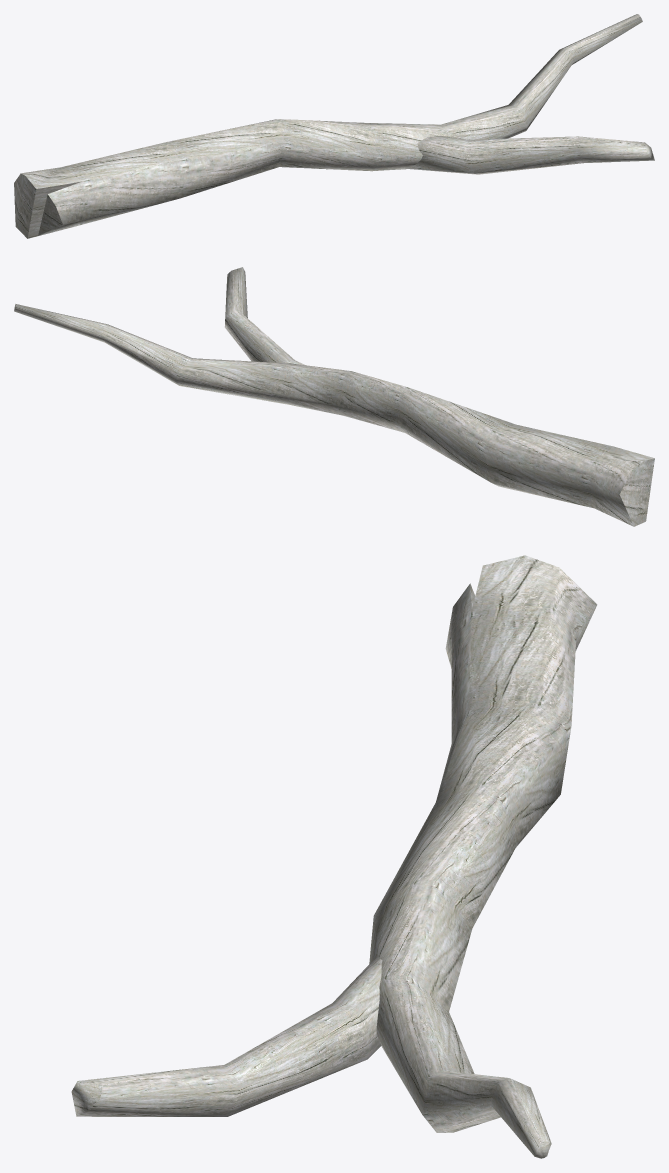
The model's file is shor_driftwood_a1_l0.fbx.
The picture shows the model from 3 angles, top to bottom: view 1: azimuth 30°, elevation 25°; view 2: azimuth 150°, elevation 25°; view 3: azimuth 270°, elevation 25°; orthographic projection. The views are drawn at different scales.
Visible parts, largest first — view 1: mesh_node; view 2: mesh_node; view 3: mesh_node.
Boxes of the visible parts, x1,y1,x2,y2 form: mesh_node: (14,14,654,238); mesh_node: (14,267,654,526); mesh_node: (71,555,597,1158).
Bounding box in the file's own units: 6.79 × 0.7266 × 2.5.
